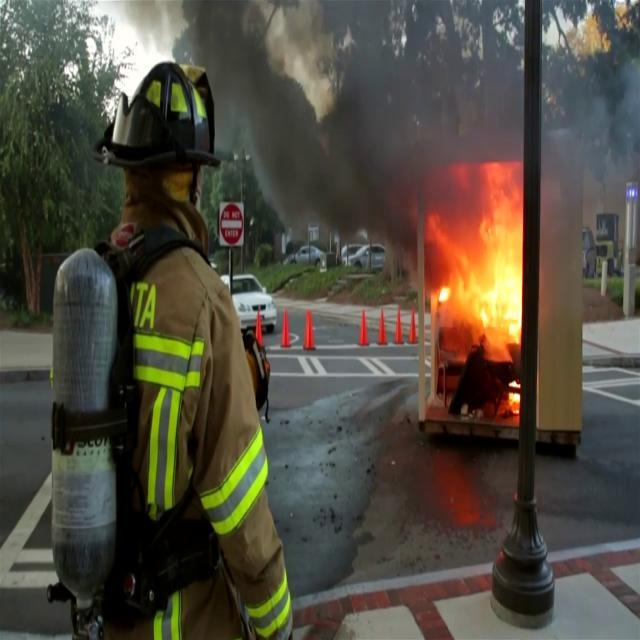Fire: (424, 162, 526, 354)
Smoke: (202, 1, 518, 232), (541, 12, 640, 311)
